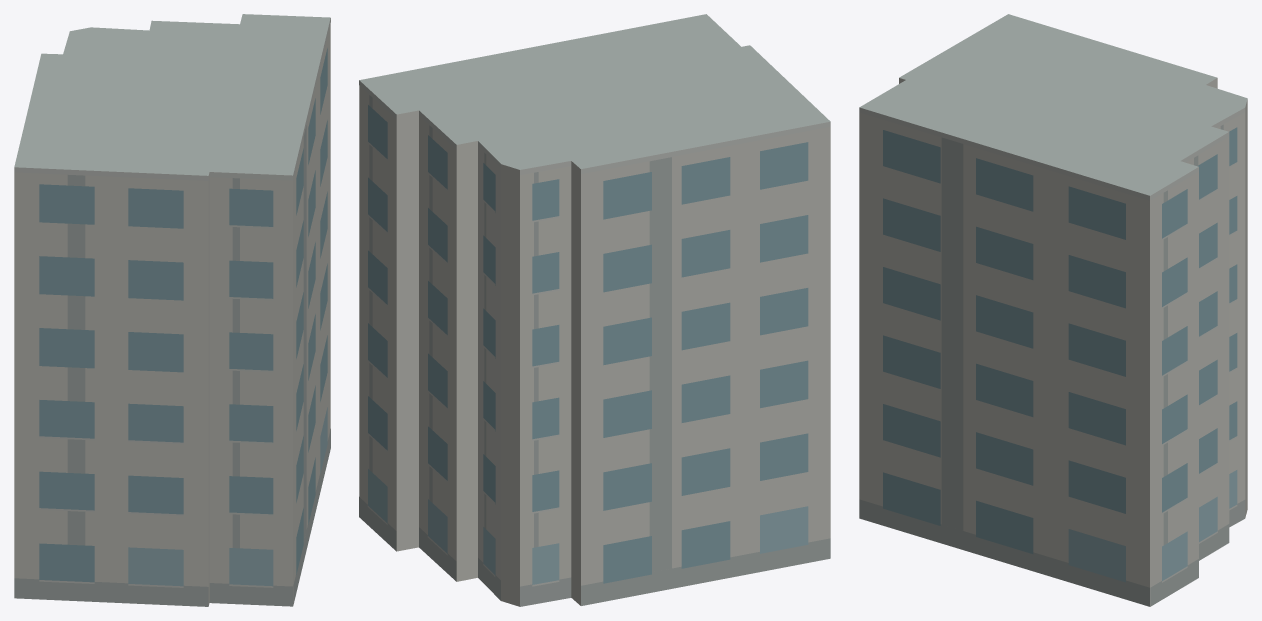
The model's file is survey-upis-32870903.glb.
3 renders of one model, left to right at view 1: azimuth 30°, elevation 25°; view 2: azimuth 150°, elevation 25°; view 3: azimuth 270°, elevation 25°, orthographic. The views are drawn at different scales.
Visible parts, largest first — view 1: survey-upis-32870903.tmp; view 2: survey-upis-32870903.tmp; view 3: survey-upis-32870903.tmp.
Part boxes in pixels (x1,y1,x2,y2): survey-upis-32870903.tmp: (14, 14, 330, 606); survey-upis-32870903.tmp: (359, 14, 830, 606); survey-upis-32870903.tmp: (859, 14, 1247, 606).
Size of the model in its own units: 19.37 by 20.4 by 17.48.
